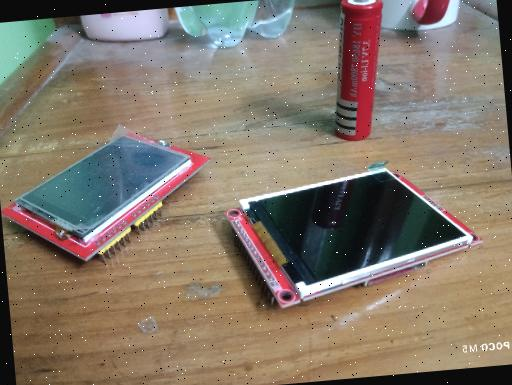Battery: (321, 0, 395, 142)
Display: (220, 154, 488, 313), (0, 122, 219, 272)
